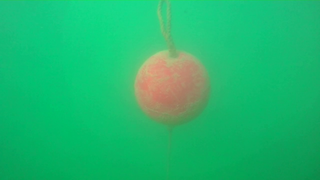buoy: (133, 50, 211, 125)
